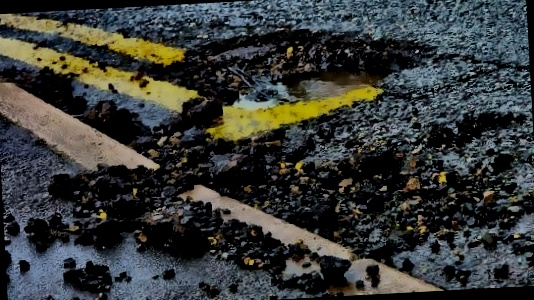pothole: (146, 18, 440, 108)
